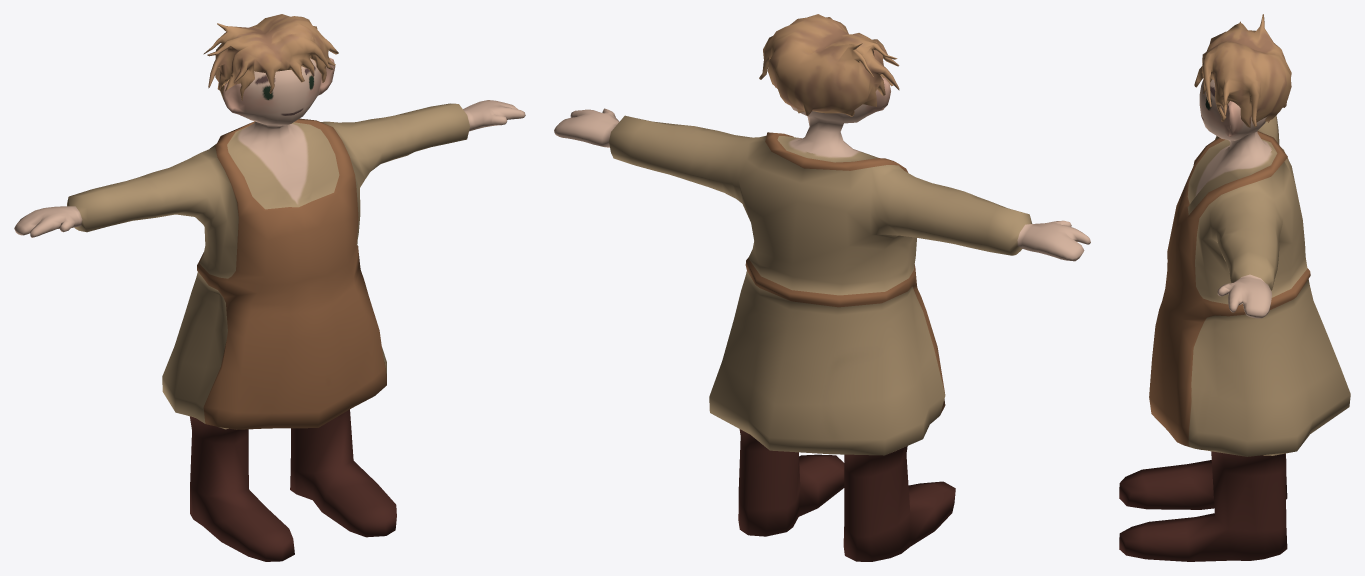
File: Nils.fbx
3 views of the same model, side by side, from view 1: azimuth 30°, elevation 25°; view 2: azimuth 150°, elevation 25°; view 3: azimuth 270°, elevation 25° (orthographic). The views are drawn at different scales.
Parts seen in each view (by area): view 1: Nils_lp; view 2: Nils_lp; view 3: Nils_lp.
Part boxes in pixels (x1,y1,x2,y2): Nils_lp: [14, 14, 525, 561]; Nils_lp: [554, 14, 1090, 561]; Nils_lp: [1119, 14, 1350, 561].
Size of the model in its own units: 504 by 467 by 201.
1 material, 1 textured.
